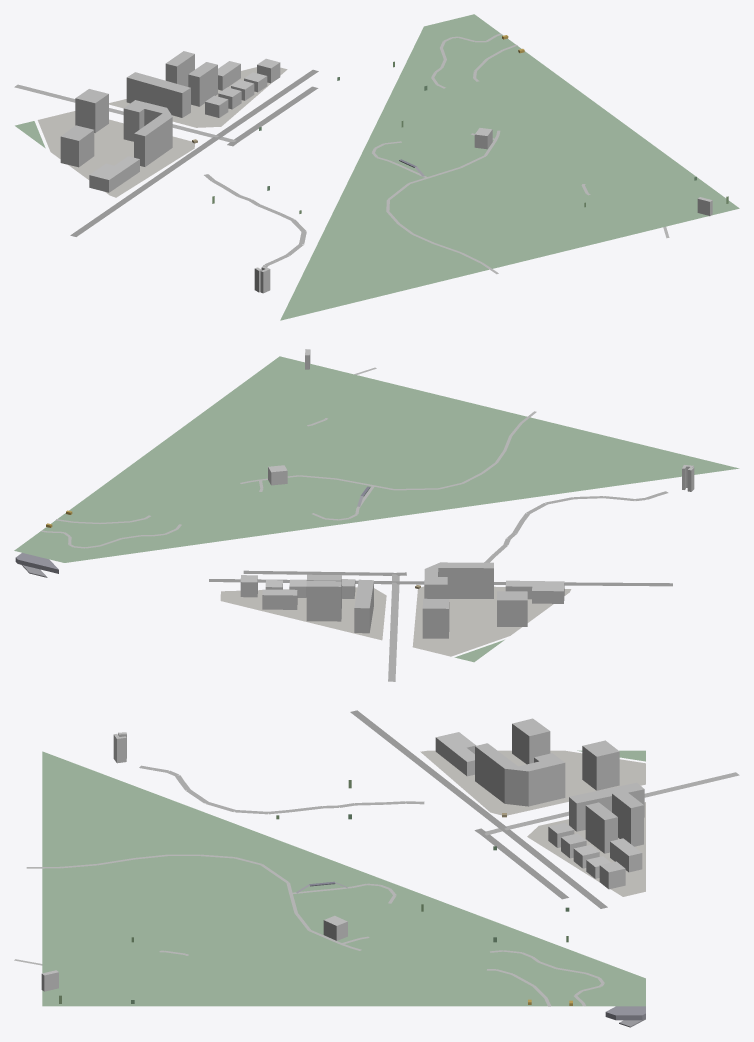
3 renders of one model, top to bottom at view 1: azimuth 30°, elevation 25°; view 2: azimuth 150°, elevation 25°; view 3: azimuth 270°, elevation 25°, orthographic. The views are drawn at different scales.
Size of the model in its own units: 578 by 55.95 by 601.
